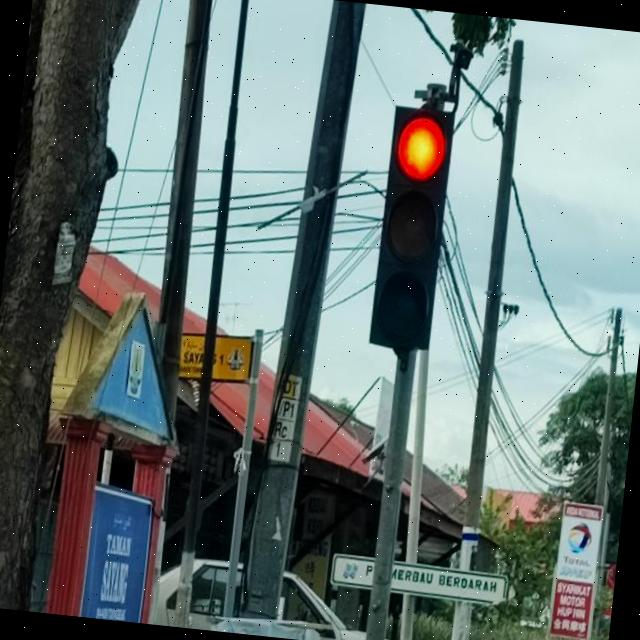red_light: (366, 106, 454, 350)
